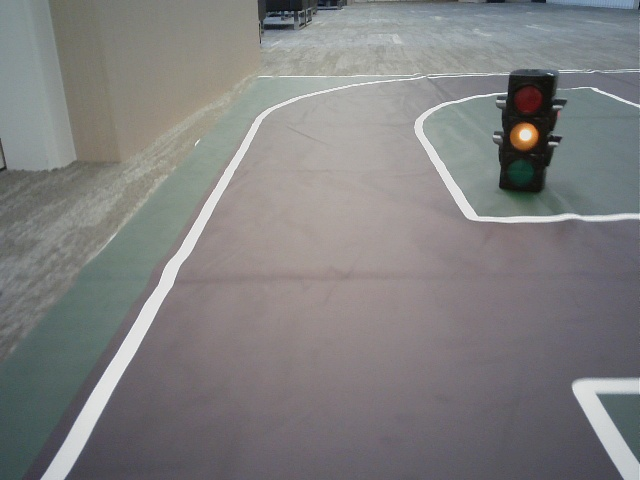yellow: (507, 83, 544, 191)
